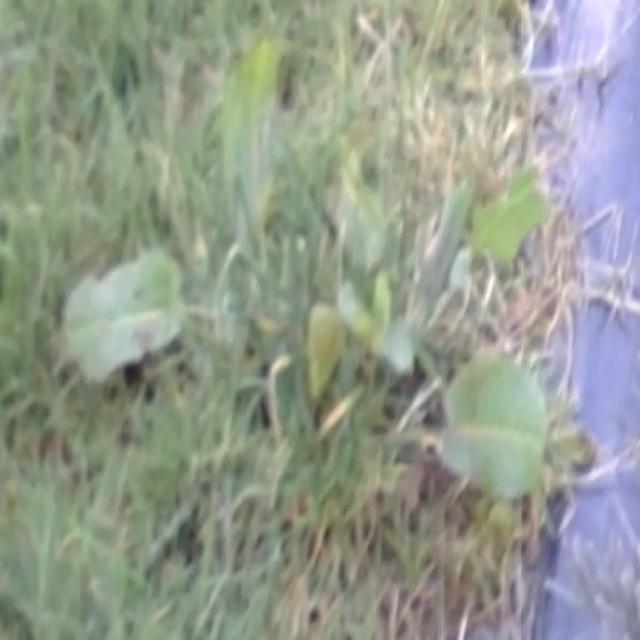organic waste: (57, 135, 584, 567)
